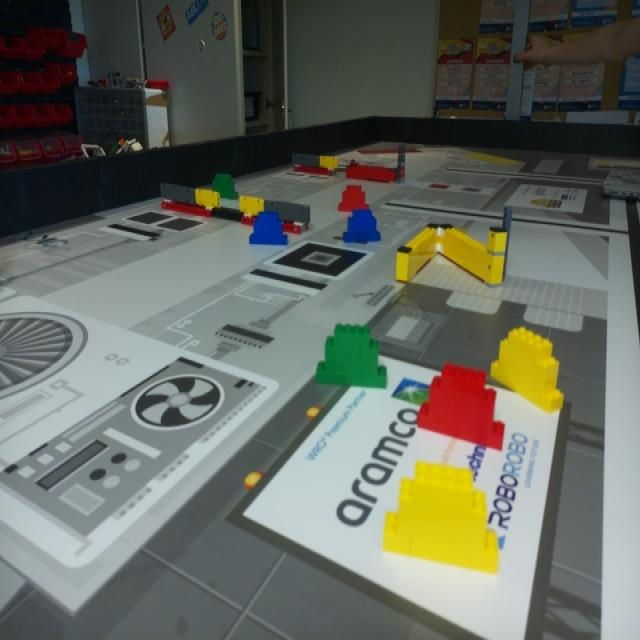blau: (247, 213, 287, 246), (342, 210, 381, 243)
gruen: (314, 326, 386, 388), (209, 173, 241, 200)
rot: (418, 362, 506, 452), (339, 186, 370, 211)
yellow: (384, 466, 494, 571), (494, 327, 563, 410)
